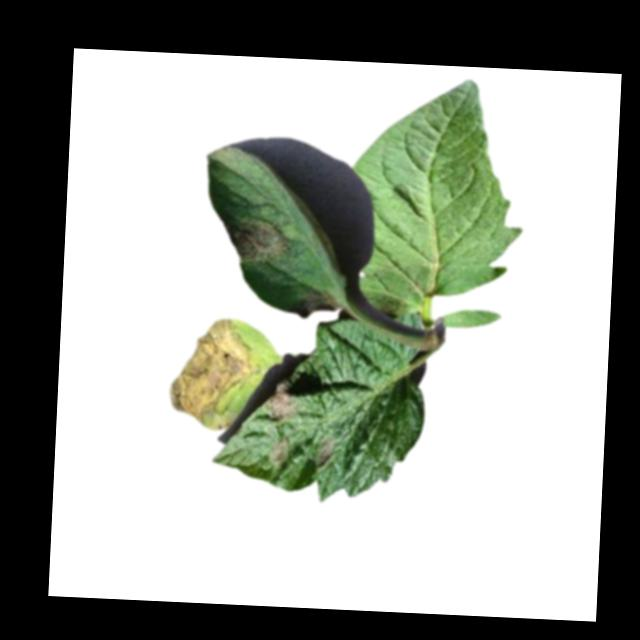Late_blight: (167, 315, 264, 433), (228, 214, 294, 263), (290, 287, 342, 319), (265, 379, 298, 422), (315, 435, 337, 467), (268, 436, 291, 465)
